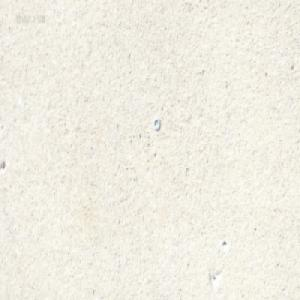Washer: (152, 116, 160, 130)
